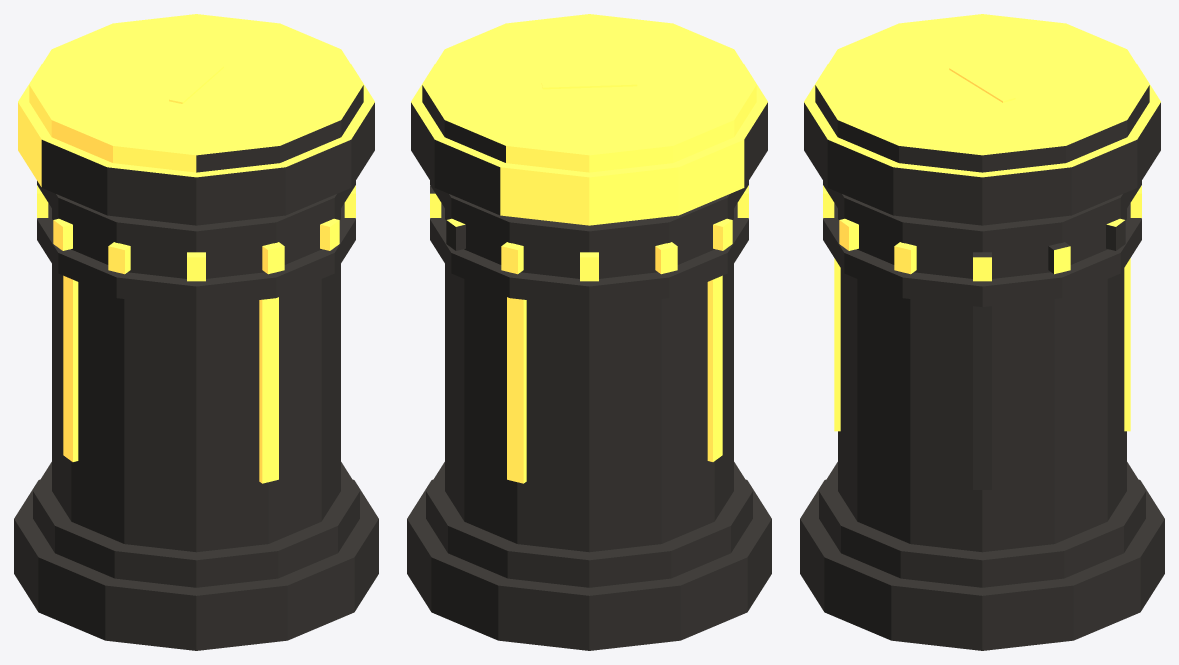
The model's file is rune_pillar.glb.
3 views of the same model, side by side, from view 1: azimuth 30°, elevation 25°; view 2: azimuth 150°, elevation 25°; view 3: azimuth 270°, elevation 25° (orthographic).
Parts seen in each view (by area): view 1: RunePillar; view 2: RunePillar; view 3: RunePillar.
Part boxes in pixels (x1,y1,x2,y2): RunePillar: (14, 14, 378, 650); RunePillar: (407, 14, 771, 650); RunePillar: (800, 14, 1164, 650).
Size of the model in its own units: 0.96 by 1.42 by 0.96.
